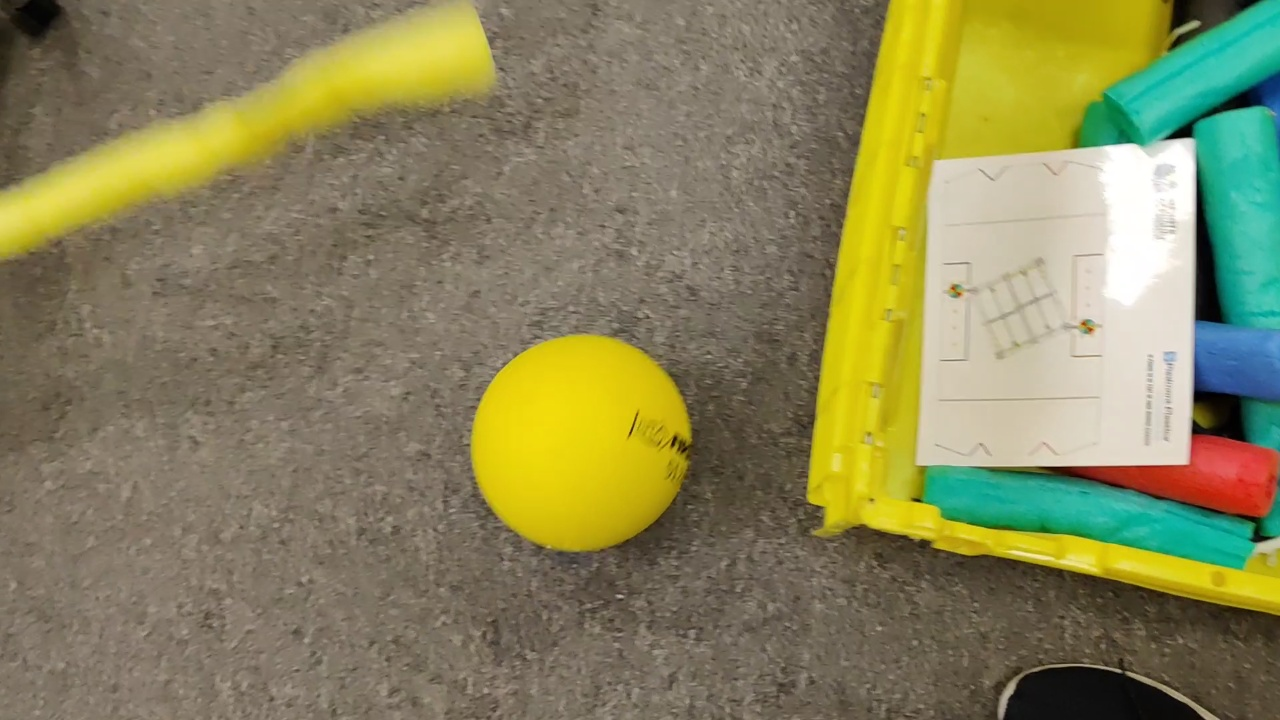Ball: (473, 331, 696, 545)
